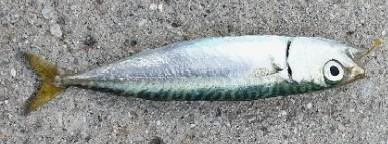fish: (16, 35, 362, 118)
